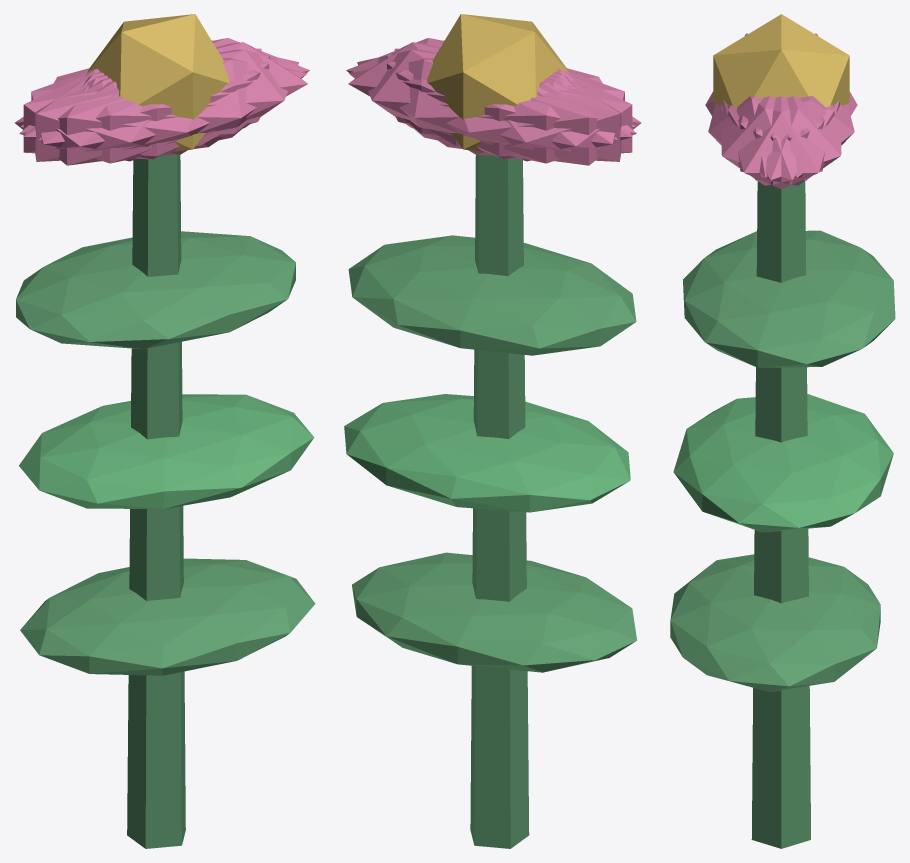
Rendered from sandoricum-koetjape.glb.
3 renders of one model, left to right at view 1: azimuth 30°, elevation 25°; view 2: azimuth 150°, elevation 25°; view 3: azimuth 270°, elevation 25°, orthographic.
Visible parts, largest first — view 1: stem, leaf1, leaf0, leaf2, center, petal1, petal6, petal2, petal5, petal7, petal0, petal4 (+2 smaller); view 2: stem, leaf2, leaf1, leaf0, center, petal8, petal3, petal7, petal4, petal2, petal0, petal5 (+2 smaller); view 3: stem, leaf1, leaf2, leaf0, center, petal0, petal4, petal5, petal1, petal8.
Part boxes in pixels (x1,y1,x2,y2): stem: (127, 154, 185, 848); leaf1: (19, 394, 314, 508); leaf0: (20, 558, 315, 675); leaf2: (16, 231, 295, 349); center: (87, 14, 229, 151); petal1: (19, 58, 307, 163); petal6: (15, 70, 222, 165); petal2: (35, 48, 261, 161); petal5: (39, 49, 298, 156); petal7: (23, 54, 269, 159); petal0: (87, 42, 307, 145); petal4: (20, 38, 309, 137); stem: (470, 154, 529, 848); leaf2: (348, 235, 636, 355); leaf1: (344, 394, 630, 512); leaf0: (352, 552, 636, 672); center: (427, 14, 568, 151); petal8: (349, 57, 636, 163); petal3: (433, 70, 641, 165); petal7: (394, 48, 621, 161); petal4: (357, 49, 617, 156); petal2: (386, 54, 632, 159); petal0: (348, 42, 569, 146); petal5: (346, 38, 635, 137); stem: (751, 181, 810, 848); leaf1: (673, 394, 893, 532); leaf2: (683, 230, 895, 367); leaf0: (670, 554, 880, 691); center: (713, 14, 849, 107); petal0: (723, 96, 839, 189); petal4: (728, 96, 841, 185); petal5: (721, 96, 834, 185); petal1: (708, 96, 824, 177); petal8: (738, 96, 854, 177).
Size of the model in its own units: 0.1452 by 0.3982 by 0.101.
